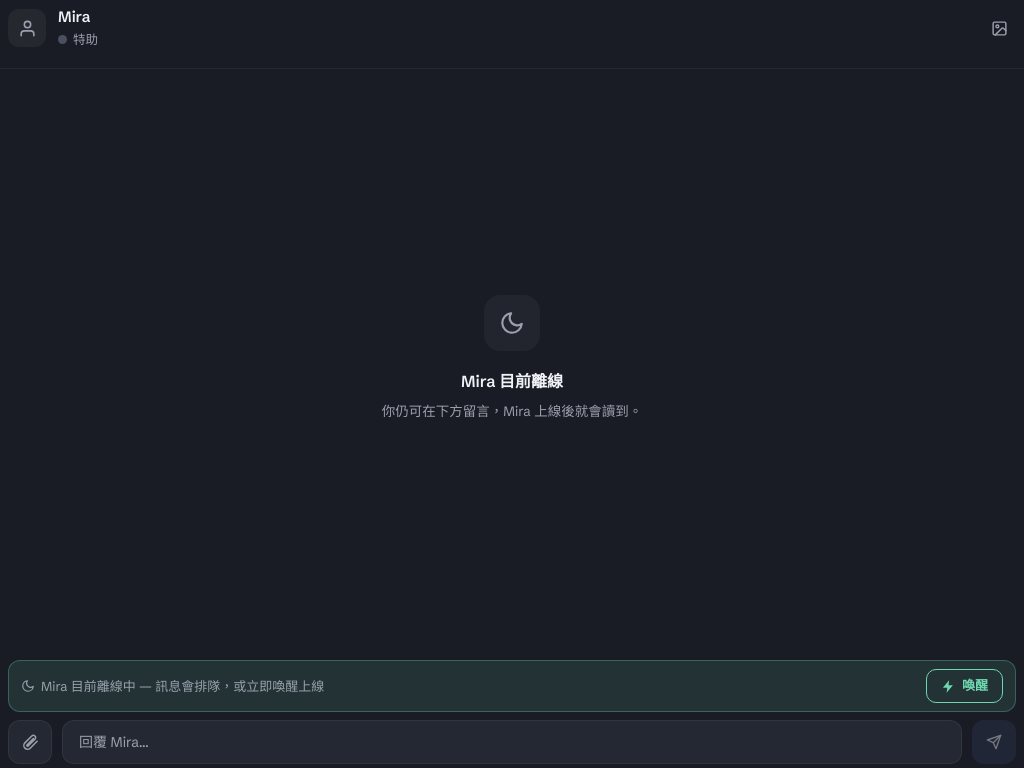
it: ChatArea · in-chat wake that was never dispatched (T-7fa1) › leaves 喚醒中… and shows the notice when activation_pending is true
The width and height of the screenshot is (1024, 768).
Click the button with class "chat__wake-btn". click: (964, 686)
box: [926, 669, 1003, 703]
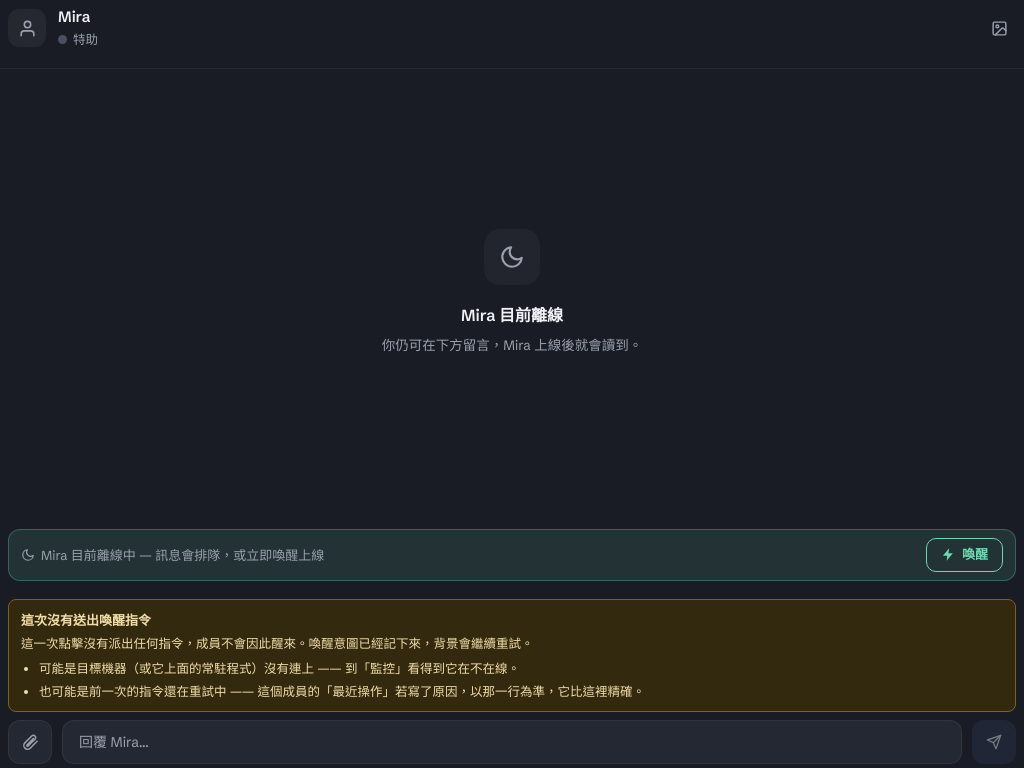
Expected: the button with class "chat__wake-btn" is enabled, [926, 538, 1003, 572]
Expected: the message with test id "chat-wake-undispatched" is shown, [8, 599, 1016, 712]
